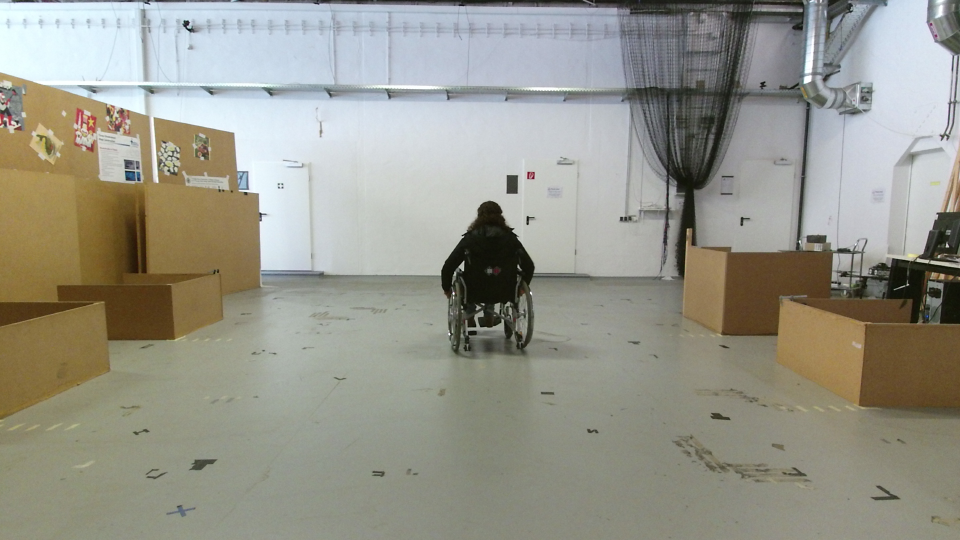wheelchair: (436, 196, 543, 360)
